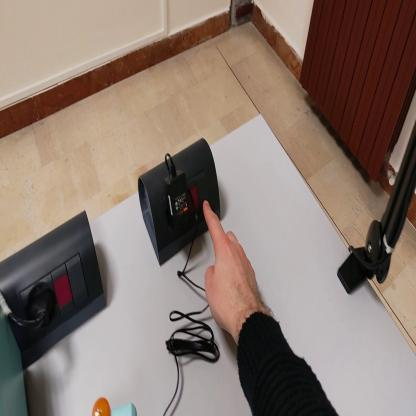hand: (202, 200, 263, 336)
socket: (2, 206, 108, 371), (138, 138, 221, 267)
welder base: (90, 396, 137, 416)
welder station: (2, 303, 28, 415)
